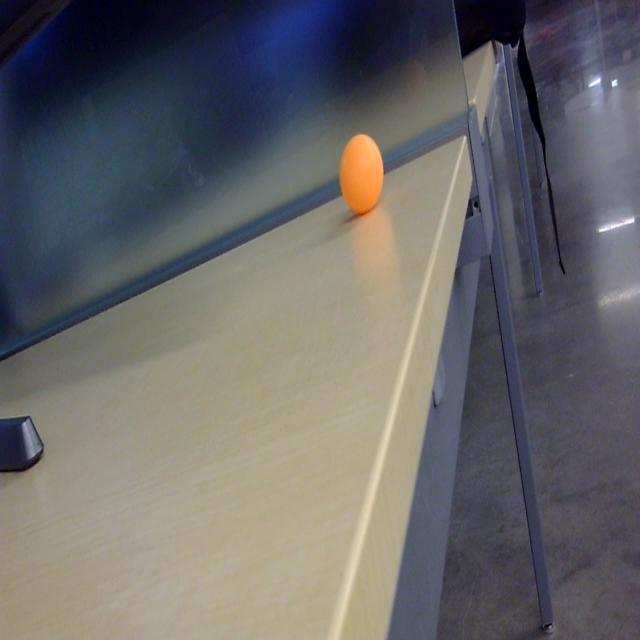ball: (338, 134, 384, 215)
